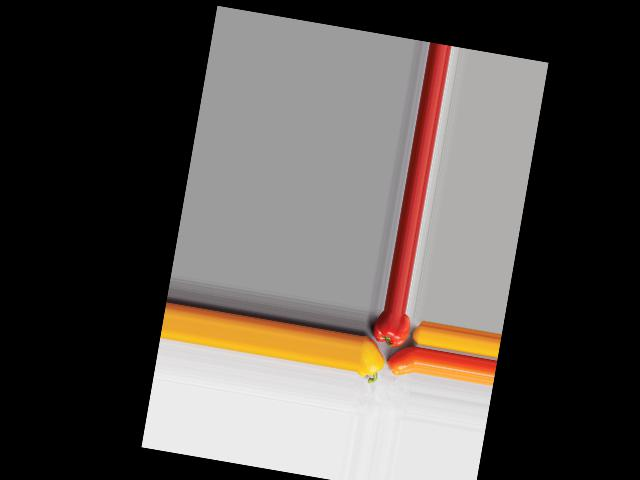bell_pepper: (368, 309, 411, 348)
